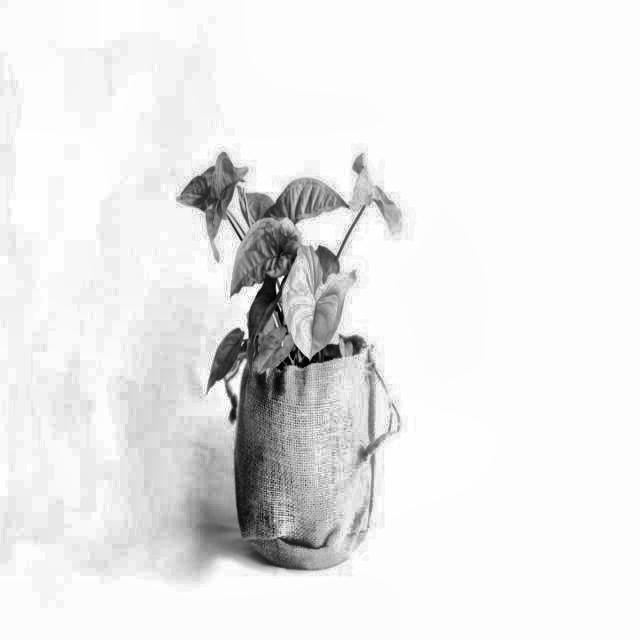plants: (178, 133, 426, 582)
